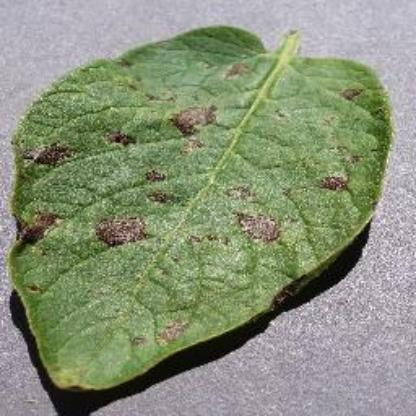Early-Blight: (5, 1, 413, 404)
